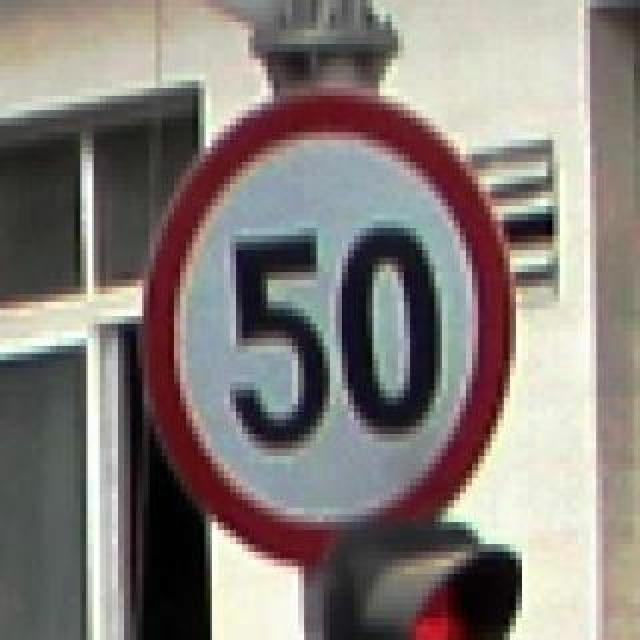50 kph: (136, 82, 516, 560)
